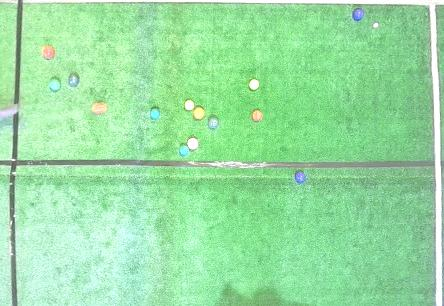blue: (296, 172, 306, 183), (354, 9, 364, 20)
green: (49, 78, 61, 92), (208, 117, 219, 129), (68, 74, 79, 86), (179, 145, 189, 156), (150, 109, 160, 119)
red: (42, 46, 55, 59), (93, 102, 106, 114), (194, 108, 205, 120), (187, 138, 198, 150), (252, 110, 262, 121)
vline: (427, 0, 443, 306), (1, 113, 19, 305), (1, 0, 23, 106)
white: (373, 23, 378, 28)
yellow: (249, 79, 259, 90), (184, 100, 194, 110)
